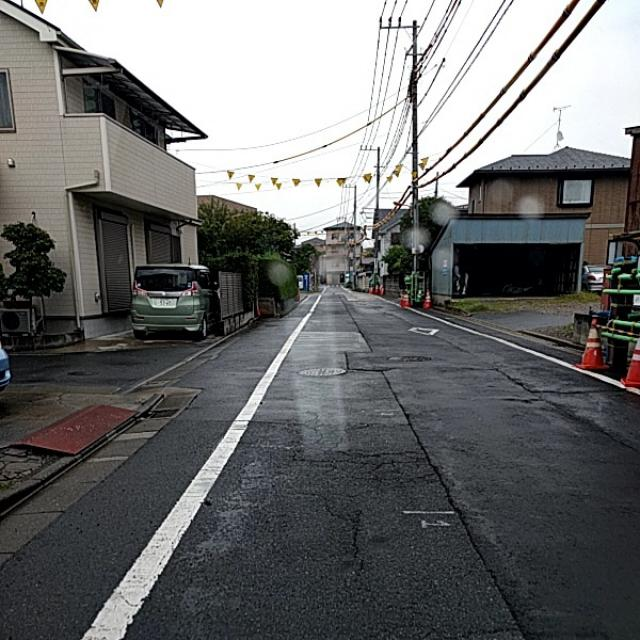pothole: (383, 432, 458, 533)
